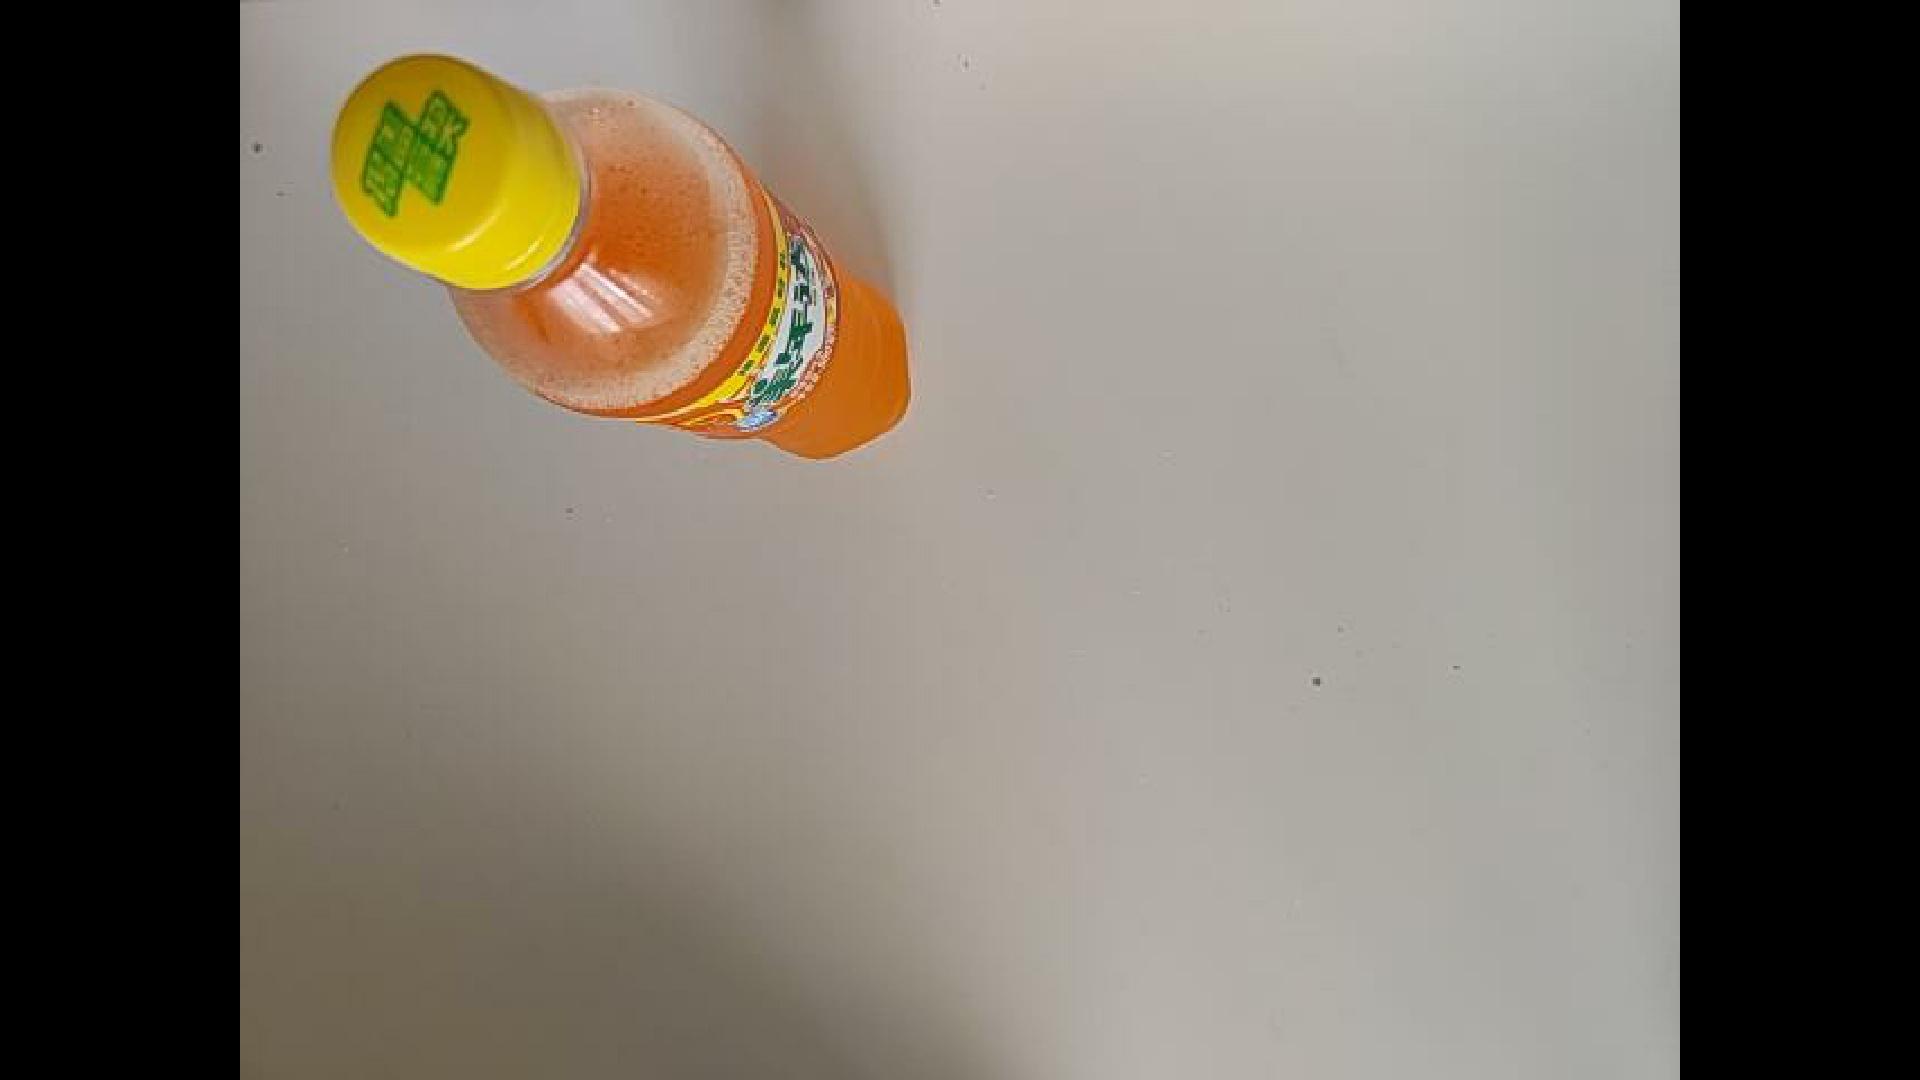fenta: (328, 51, 915, 463)
